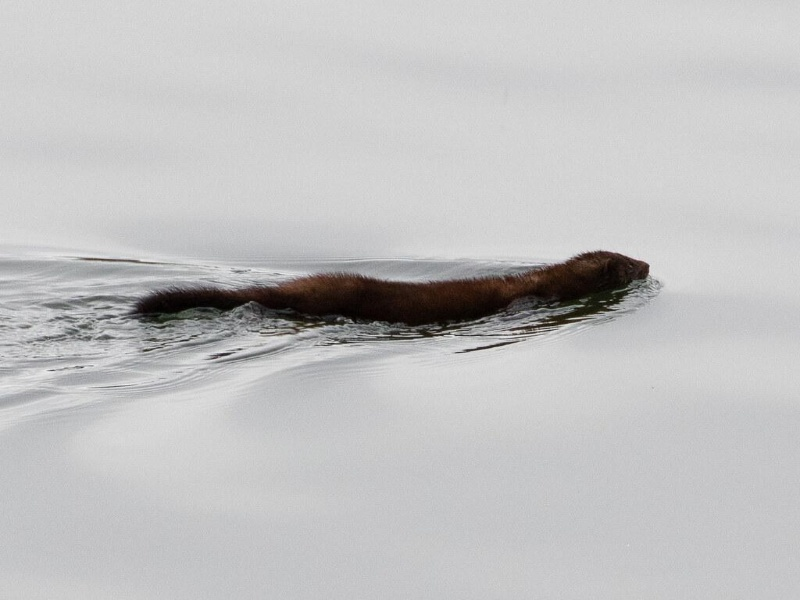minkish: (119, 247, 655, 332)
